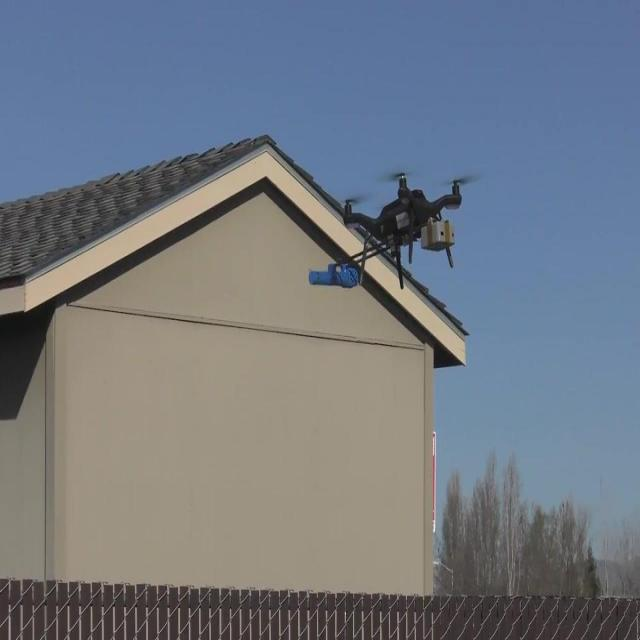UAV: (342, 170, 461, 286)
